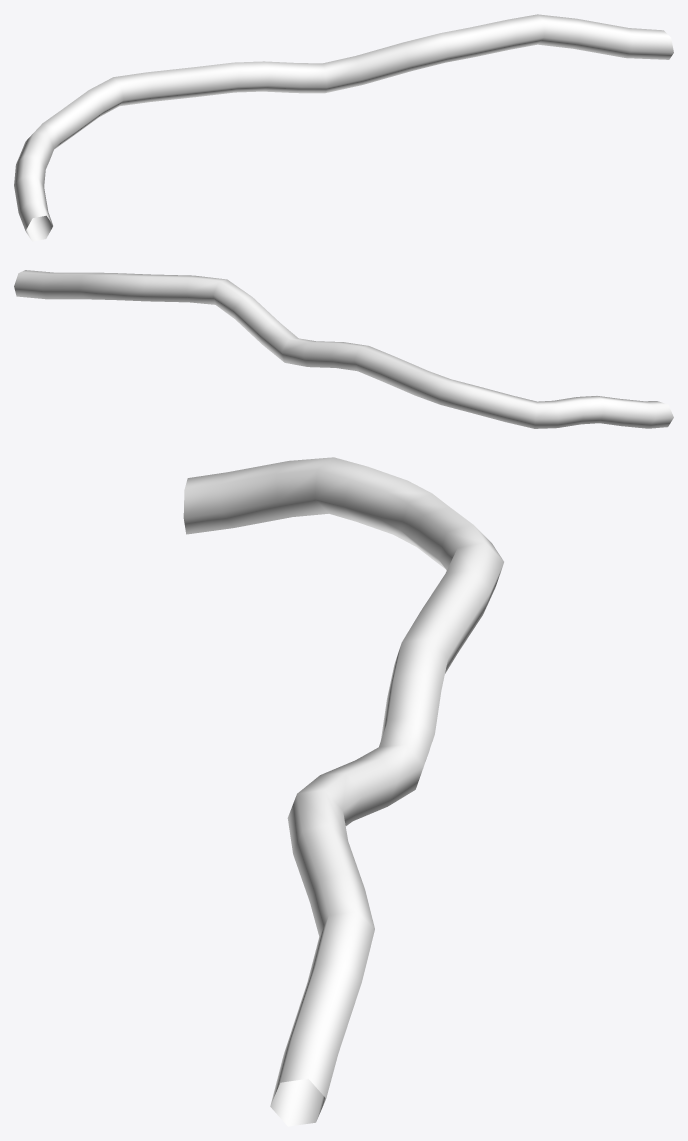
File: SM_GroundRoot_Var10.fbx
3 views of the same model, one above another, from view 1: azimuth 30°, elevation 25°; view 2: azimuth 150°, elevation 25°; view 3: azimuth 270°, elevation 25° (orthographic). The views are drawn at different scales.
Visible parts, largest first — view 1: BezierCurve.052; view 2: BezierCurve.052; view 3: BezierCurve.052.
Part boxes in pixels (<box>): BezierCurve.052: <box>14,14,673,241</box>; BezierCurve.052: <box>14,270,673,428</box>; BezierCurve.052: <box>183,457,503,1126</box>.
Size of the model in its own units: 1592 by 167 by 353.
